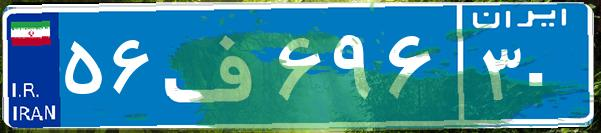0: (525, 38, 570, 115)
3: (475, 38, 525, 113)
5: (57, 26, 110, 107)
6: (385, 28, 445, 110), (273, 28, 330, 110), (110, 28, 158, 105)
9: (330, 28, 385, 110)
ف: (158, 15, 273, 115)
